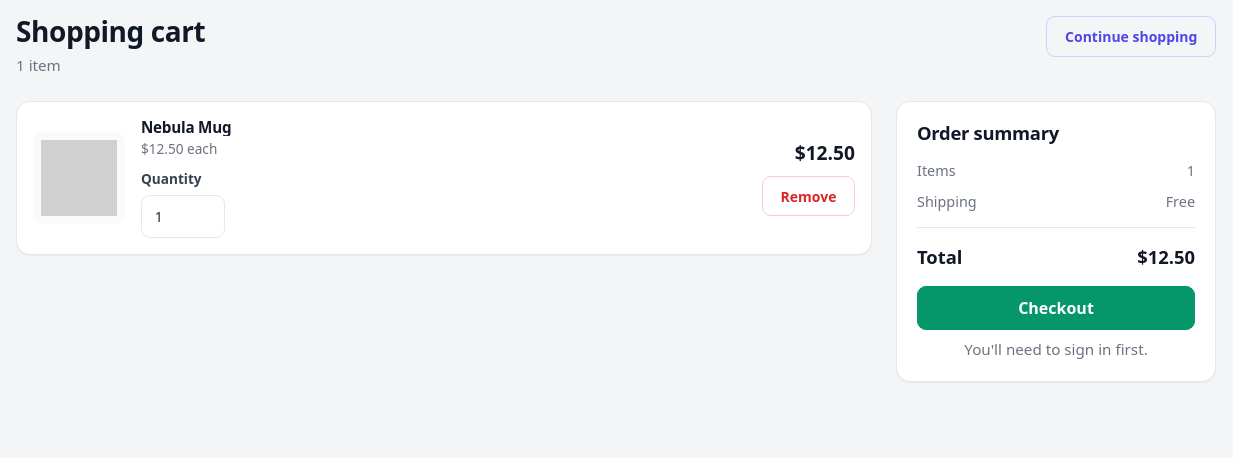
Test: checkout › blocks a signed-out user and explains why
The width and height of the screenshot is (1233, 458).
Expected: the text "You'll need to sign in first." is shown, x1=964 y1=339 x2=1148 y2=359
Click the button "Checkout". click: (1056, 308)
box: x1=917 y1=286 x2=1195 y2=330
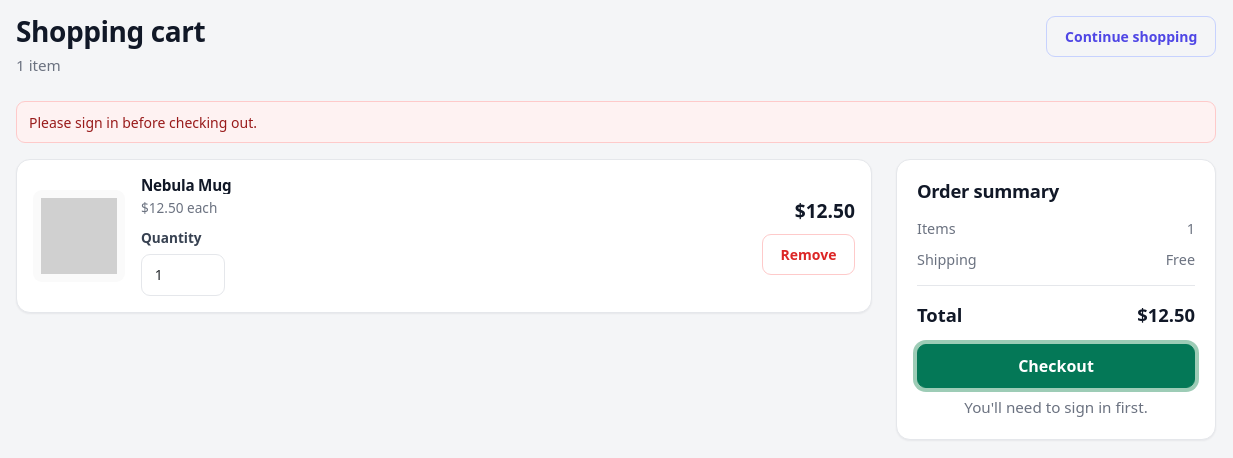
Expected: the message reads "Please sign in before checking out.", x1=29 y1=113 x2=257 y2=132
